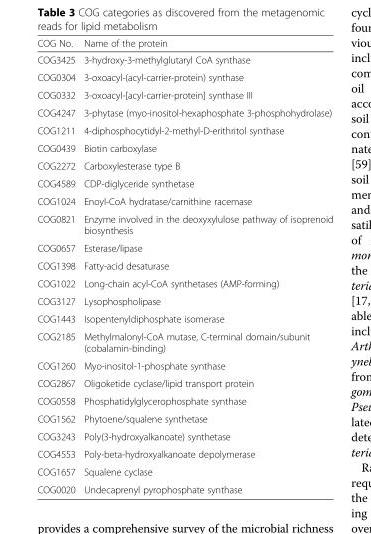table: (36, 37, 332, 494)
table column: (78, 37, 332, 494), (36, 37, 78, 494)
table column header: (36, 37, 332, 50)
table row: (36, 209, 332, 238), (36, 327, 332, 356), (36, 50, 332, 68), (36, 85, 332, 103), (36, 103, 332, 121), (36, 138, 332, 156), (36, 156, 332, 174), (36, 174, 332, 192), (36, 238, 332, 256), (36, 256, 332, 274), (36, 291, 332, 309), (36, 309, 332, 327), (36, 356, 332, 374), (36, 391, 332, 409), (36, 409, 332, 427), (36, 444, 332, 462), (36, 462, 332, 480), (36, 68, 332, 85), (36, 121, 332, 138), (36, 192, 332, 209), (36, 274, 332, 291), (36, 374, 332, 391), (36, 427, 332, 444), (36, 480, 332, 494), (36, 37, 332, 50)
